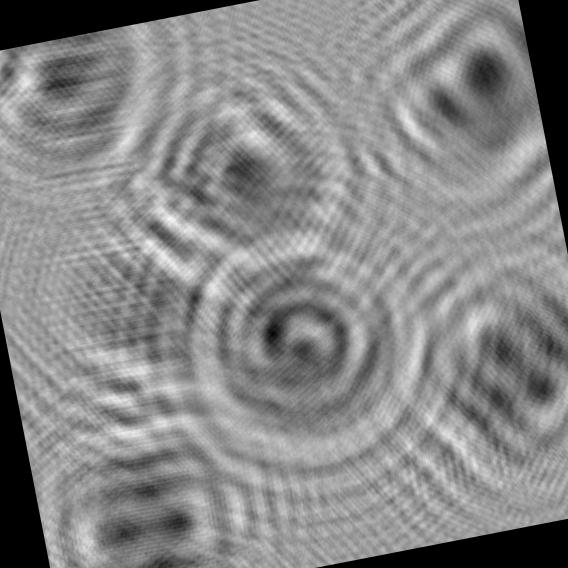F: (313, 0, 560, 257)
G: (142, 198, 459, 517)
H: (346, 225, 568, 545), (23, 390, 277, 568)
I: (0, 179, 255, 454)
J: (96, 36, 382, 322), (0, 16, 202, 220)
